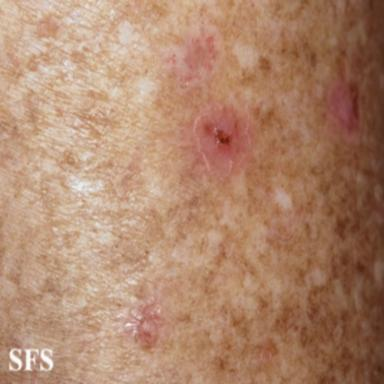Porokeratosis: (193, 104, 251, 179), (165, 36, 220, 85), (326, 78, 360, 139), (132, 300, 162, 349)
